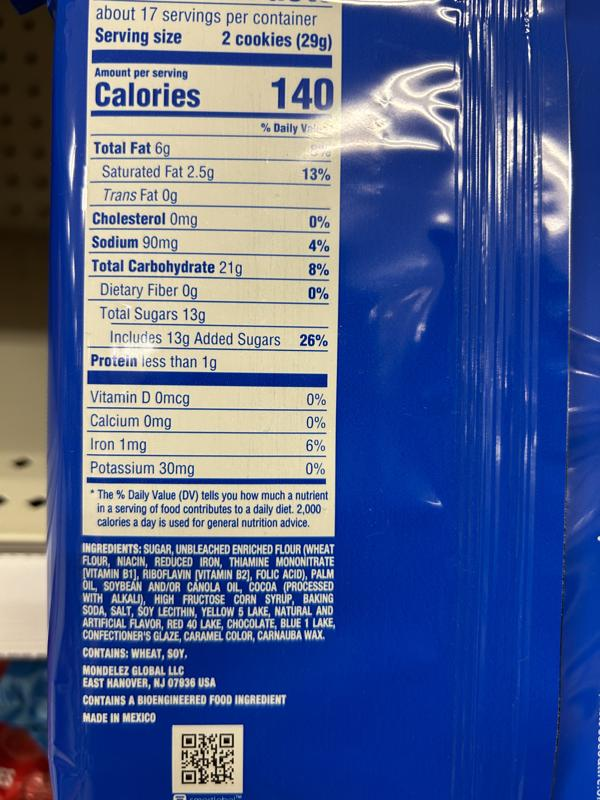ingredients: (79, 540, 335, 642)
